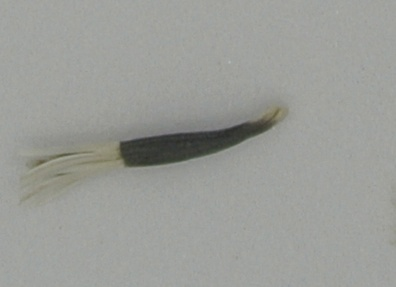เมล็ดดีติดกัน: (17, 106, 291, 214)
